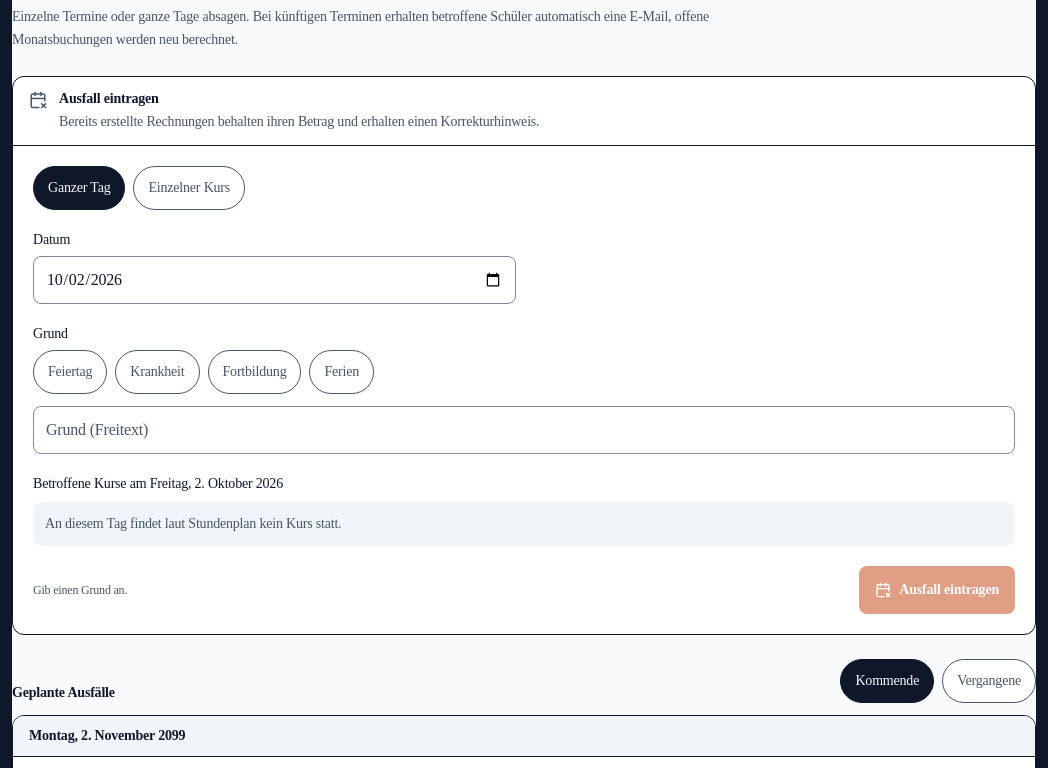
Scenario: past cancellations are available through the filter
Click the button "Vergangene": click(989, 681) [942,659,1036,703]
(page scrolled)
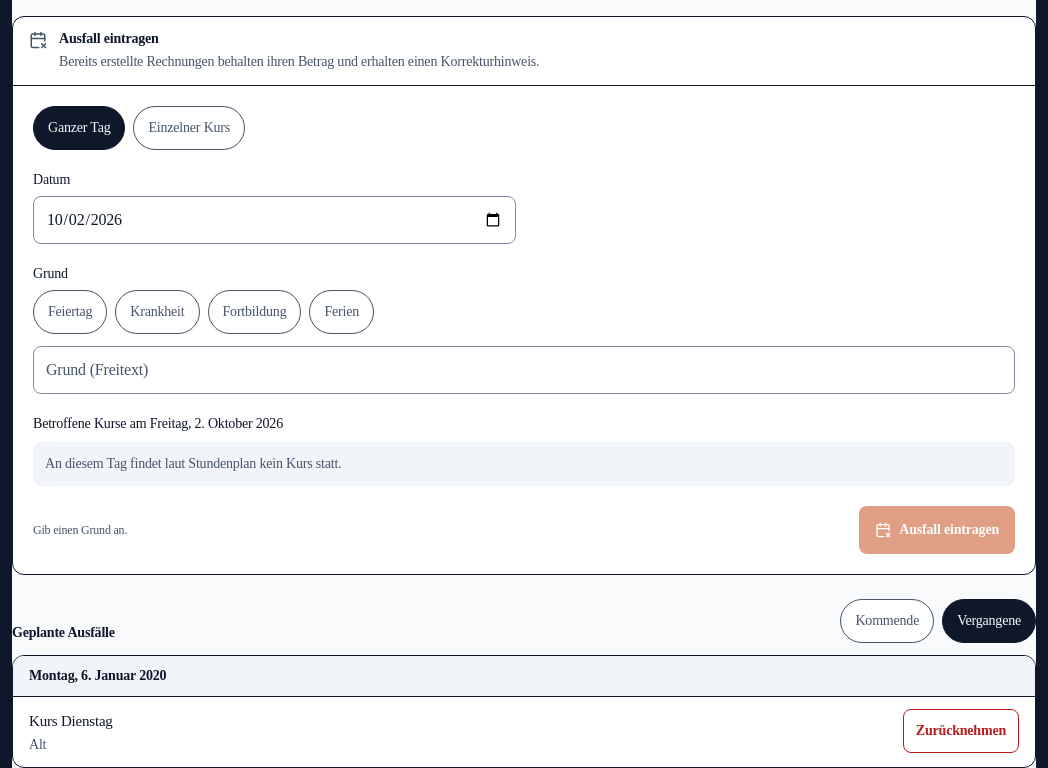
Expected: the text "Alt" is shown, [29,737,46,752]
